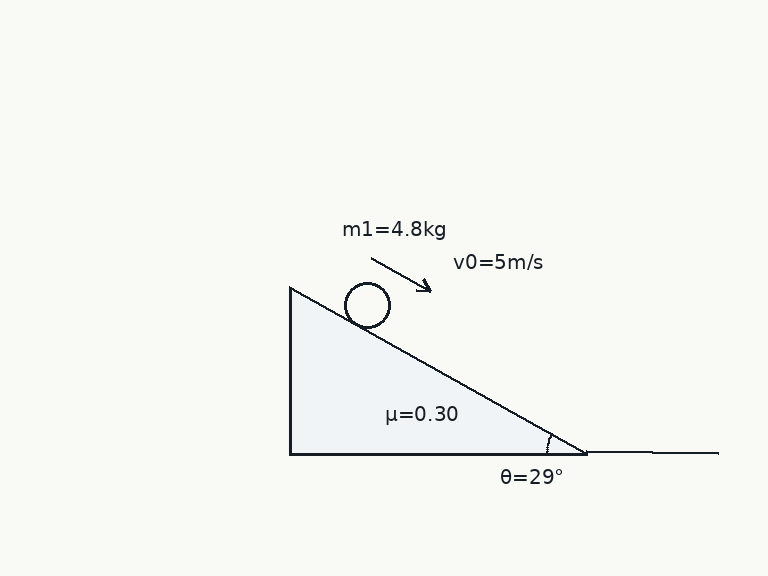ball: (342, 280, 392, 330)
ramp: (287, 286, 589, 455)
